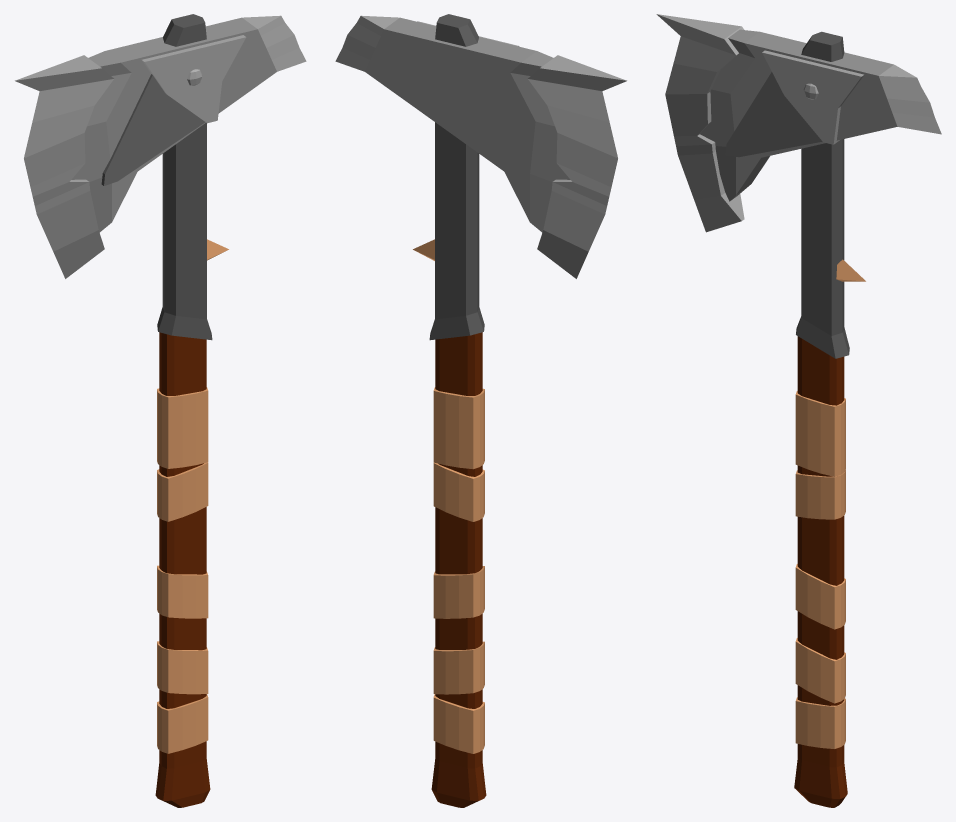
Rendered from Battle_Axe.fbx.
The picture shows the model from 3 angles, left to right: view 1: azimuth 30°, elevation 25°; view 2: azimuth 150°, elevation 25°; view 3: azimuth 330°, elevation 25°; orthographic projection. The views are drawn at different scales.
Visible parts, largest first — view 1: Battle_Axe; view 2: Battle_Axe; view 3: Battle_Axe.
Part boxes in pixels (left/top/right/bottom): Battle_Axe: left=15, top=14, right=306, bottom=807; Battle_Axe: left=335, top=14, right=626, bottom=807; Battle_Axe: left=656, top=14, right=941, bottom=807.
Size of the model in its own units: 799 by 2039 by 103.
